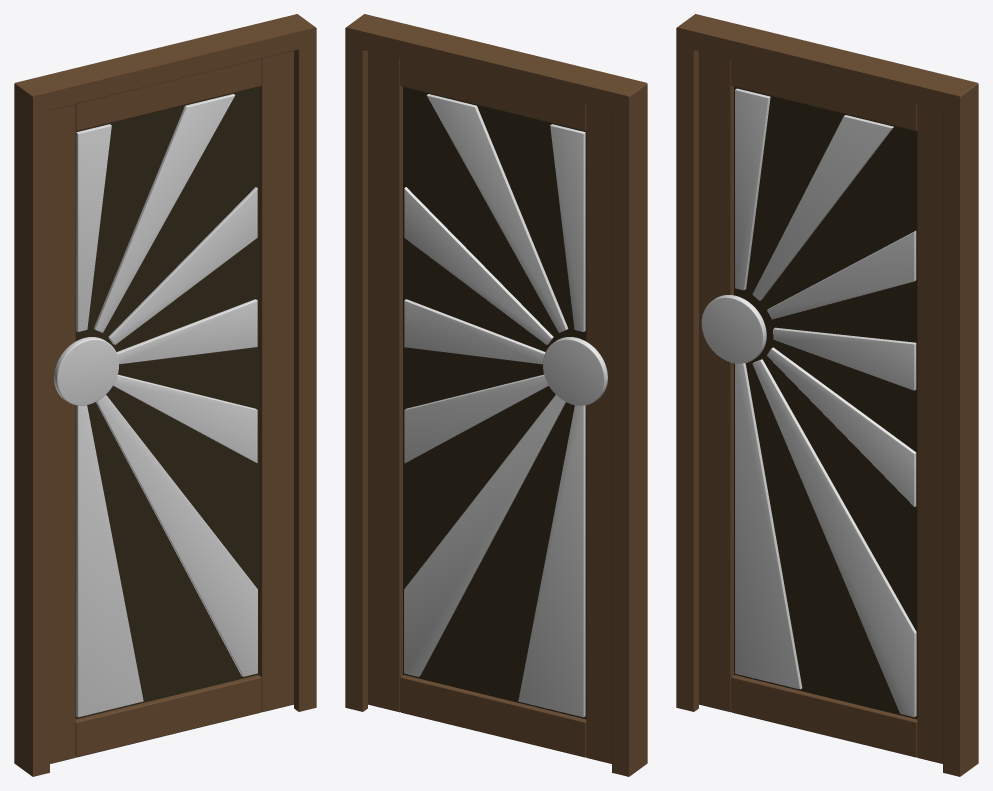
Rendered from DOOR_8.fbx.
3 renders of one model, left to right at view 1: azimuth 30°, elevation 25°; view 2: azimuth 150°, elevation 25°; view 3: azimuth 330°, elevation 25°, orthographic.
Visible parts, largest first — view 1: DOOR_8; view 2: DOOR_8; view 3: DOOR_8.
Part boxes in pixels (left/top/right/bottom): DOOR_8: left=14, top=14, right=316, bottom=776; DOOR_8: left=345, top=14, right=647, bottom=776; DOOR_8: left=676, top=14, right=978, bottom=776.
Bounding box in the file's own units: 103 × 236 × 11.6.
